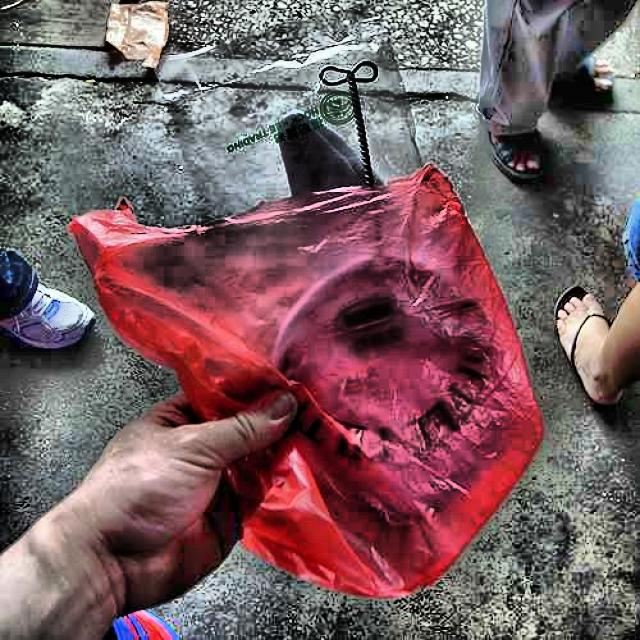Plastic: (73, 141, 568, 608)
